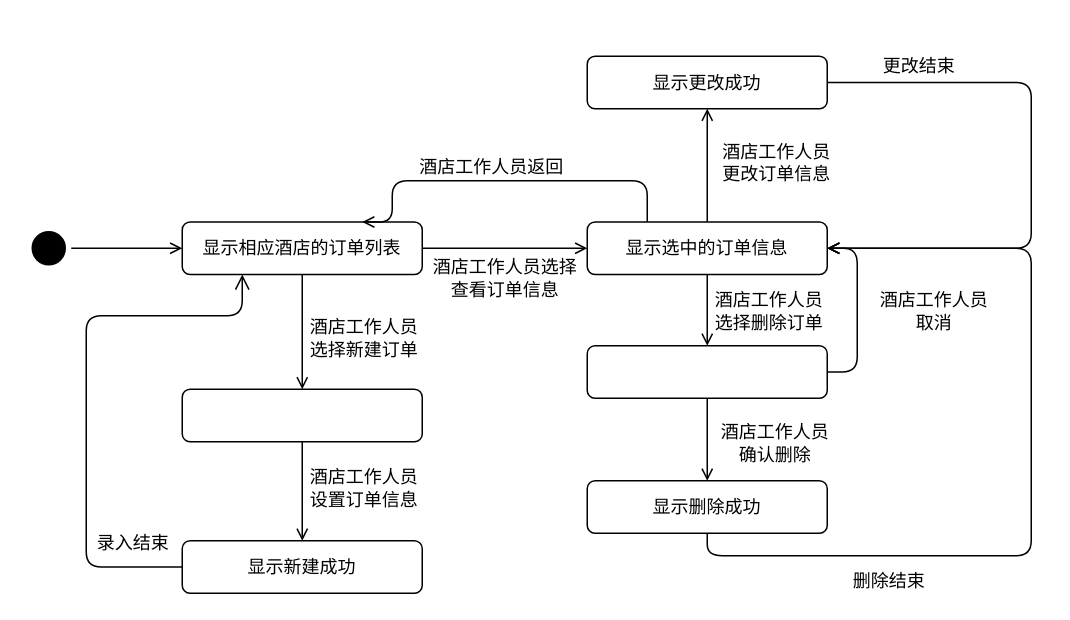
This 1070x620 diagram has some shape labels left out. The shapes that lost their labels are listed below. From the top down, each one's box as (x1, y1, x2, y2) in pixels, then its label:
(586, 344, 827, 398): 显示确认通知
(181, 388, 422, 442): 显示空白订单信息模板
